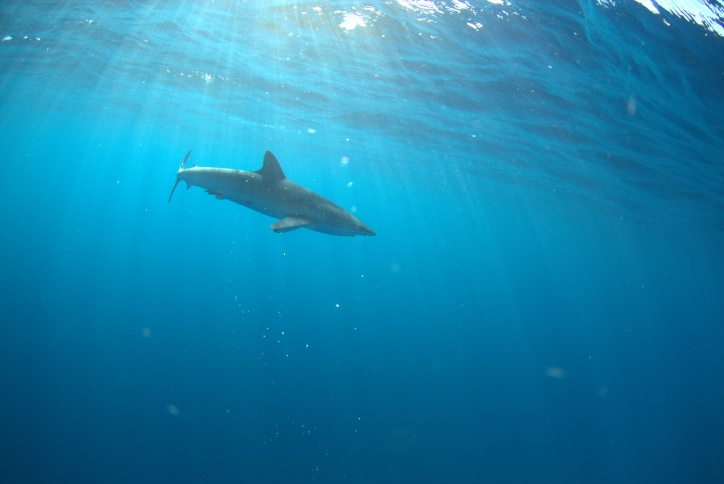Sedoso: (162, 140, 389, 249)
